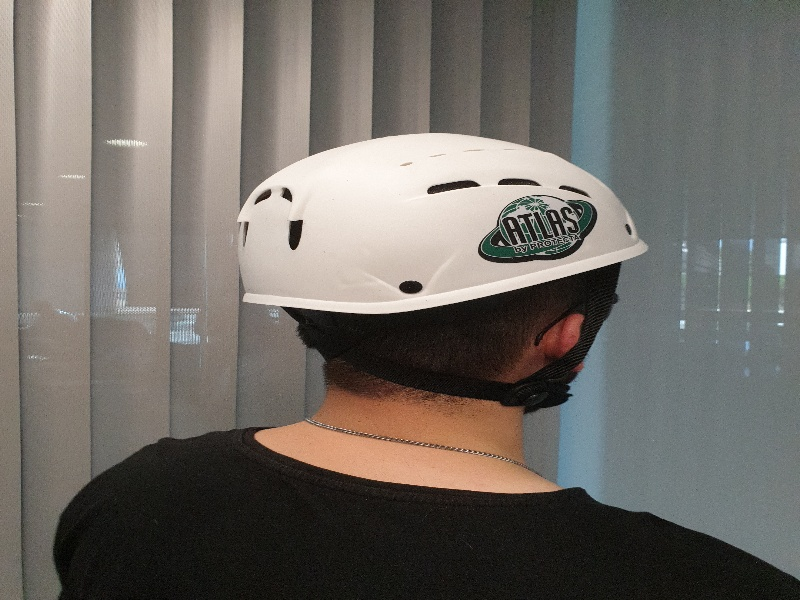Baret: (238, 131, 652, 302)
